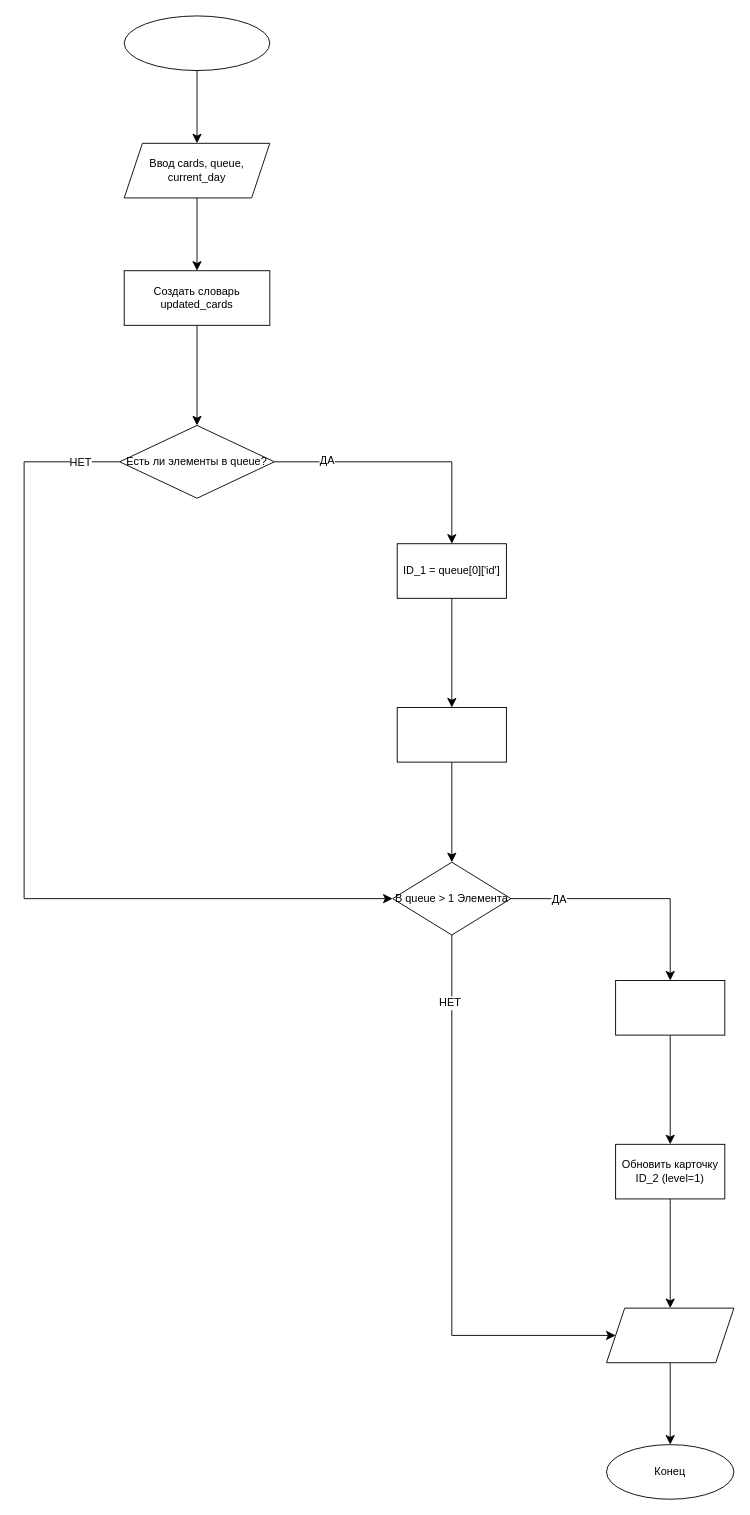
Some shapes in this 750 by 1515 pixel diagram are drawn without their labels. The shapes that lost their labels are listed below. From the top down, each one's centre as x and y in pixels, then its label:
(x=196, y=43): Начало
(x=451, y=734): Обновить карточку ID_1 (level+1)
(x=670, y=1007): ID_2 = queue[1]['id']
(x=670, y=1335): Вывод вернуть updated_cards
